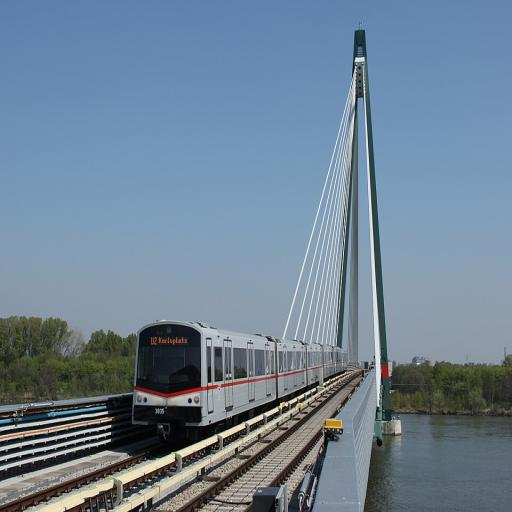V-Wagen: (128, 318, 352, 440)
